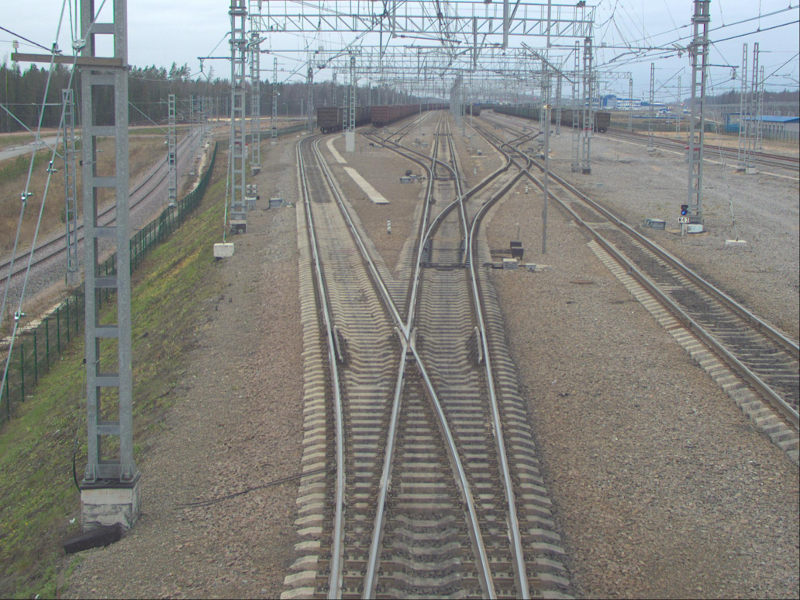left: (427, 157, 459, 182)
right: (418, 193, 472, 265)
